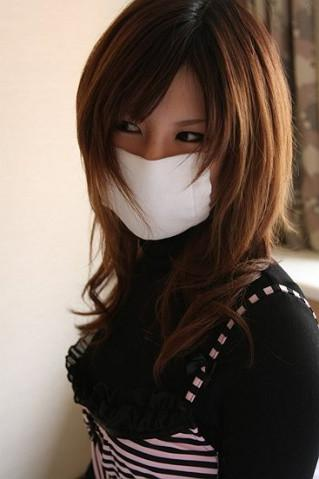OK: (92, 93, 230, 231)
